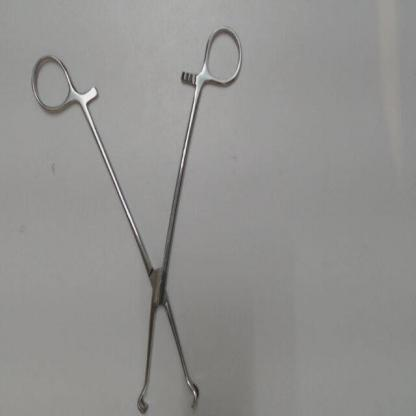8 Babcock Tissue Forceps: (22, 17, 252, 415)
